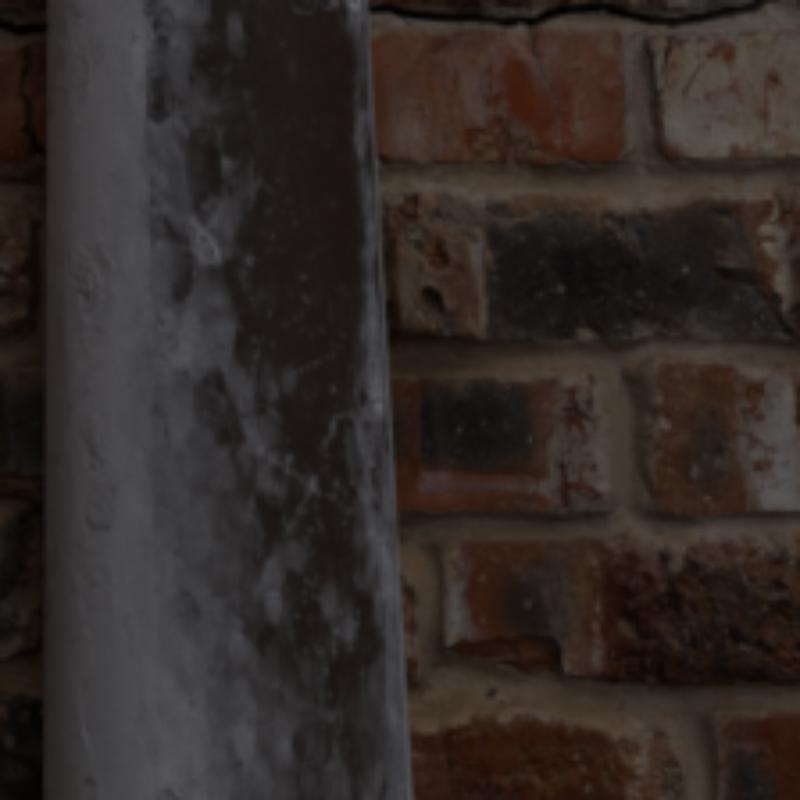pothole: (368, 0, 764, 21), (18, 46, 46, 154), (0, 18, 43, 32)
